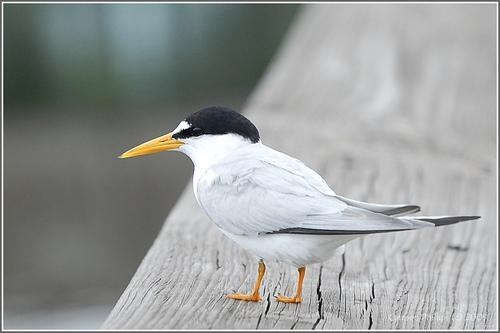bird: (114, 107, 481, 309)
